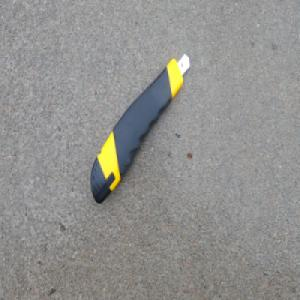Cutter: (89, 49, 191, 205)
